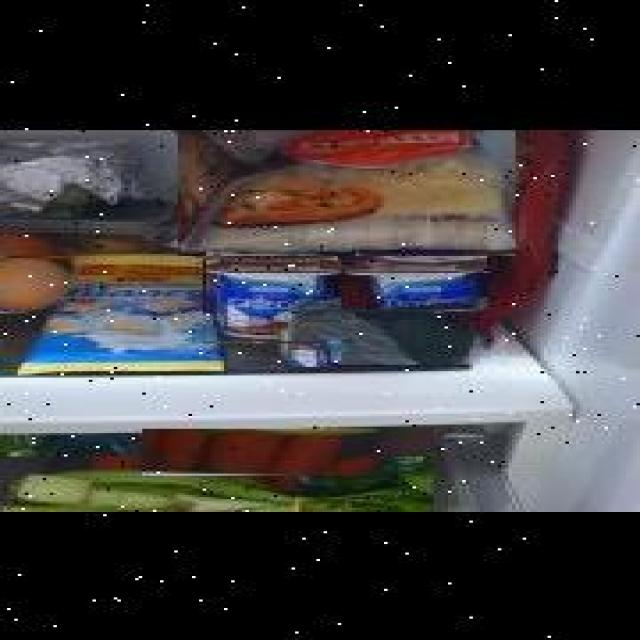carrot: (144, 426, 379, 474)
cucumber: (68, 482, 420, 512), (292, 307, 469, 365)
egg: (0, 256, 78, 311)
grated_cheese: (178, 128, 516, 254)
pak_choi: (0, 454, 434, 512)
yogurt: (203, 258, 341, 341), (338, 252, 487, 311)
